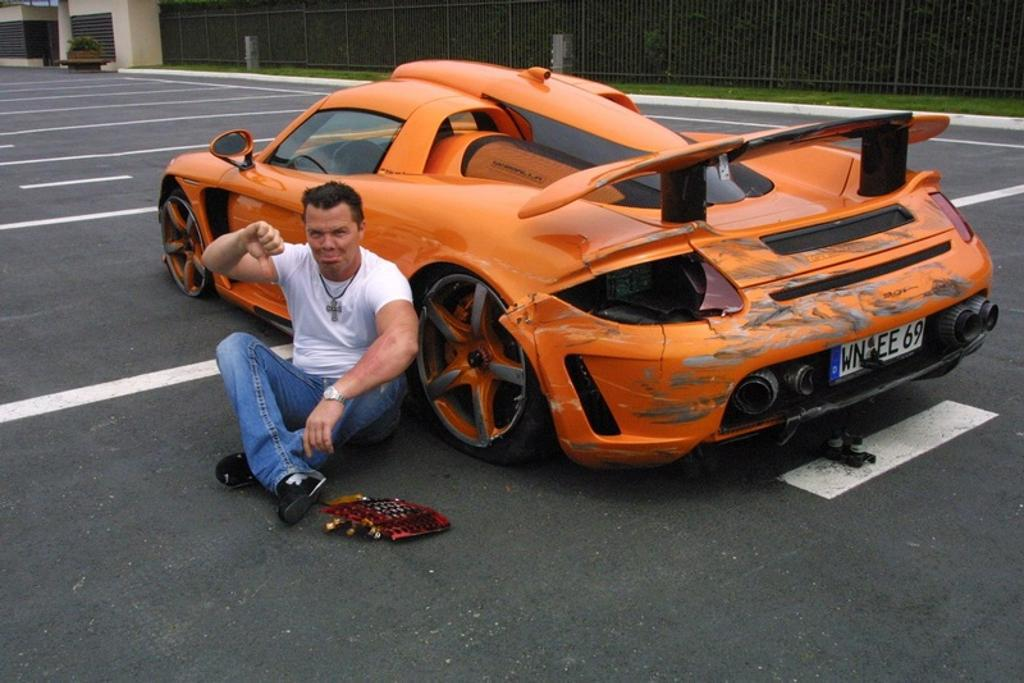face: (303, 201, 361, 279)
